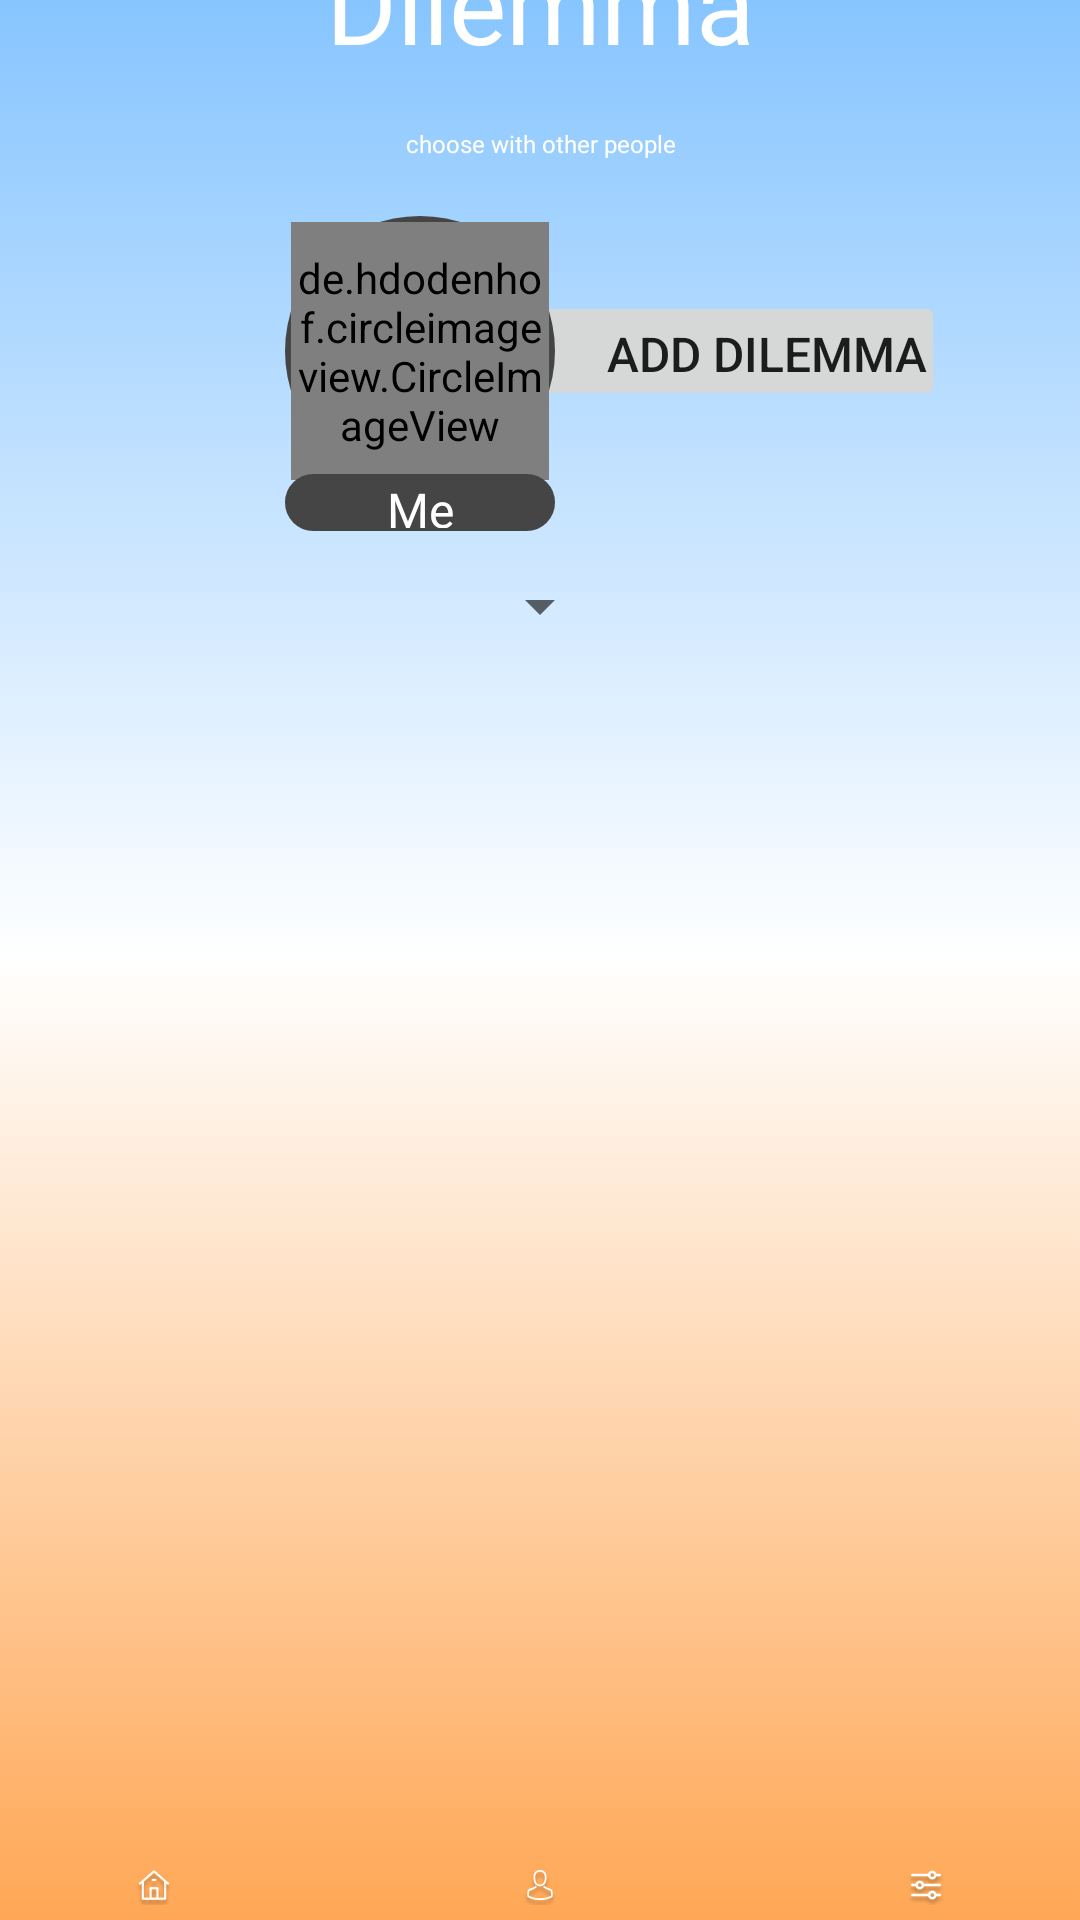

Named icons in this screenshot (1080x1920) and their bounding boxes, BBox(x1, y1, x2, y2):
Home: BBox(139, 1870, 169, 1904)
Profile: BBox(527, 1870, 553, 1904)
Settings: BBox(911, 1870, 941, 1903)
